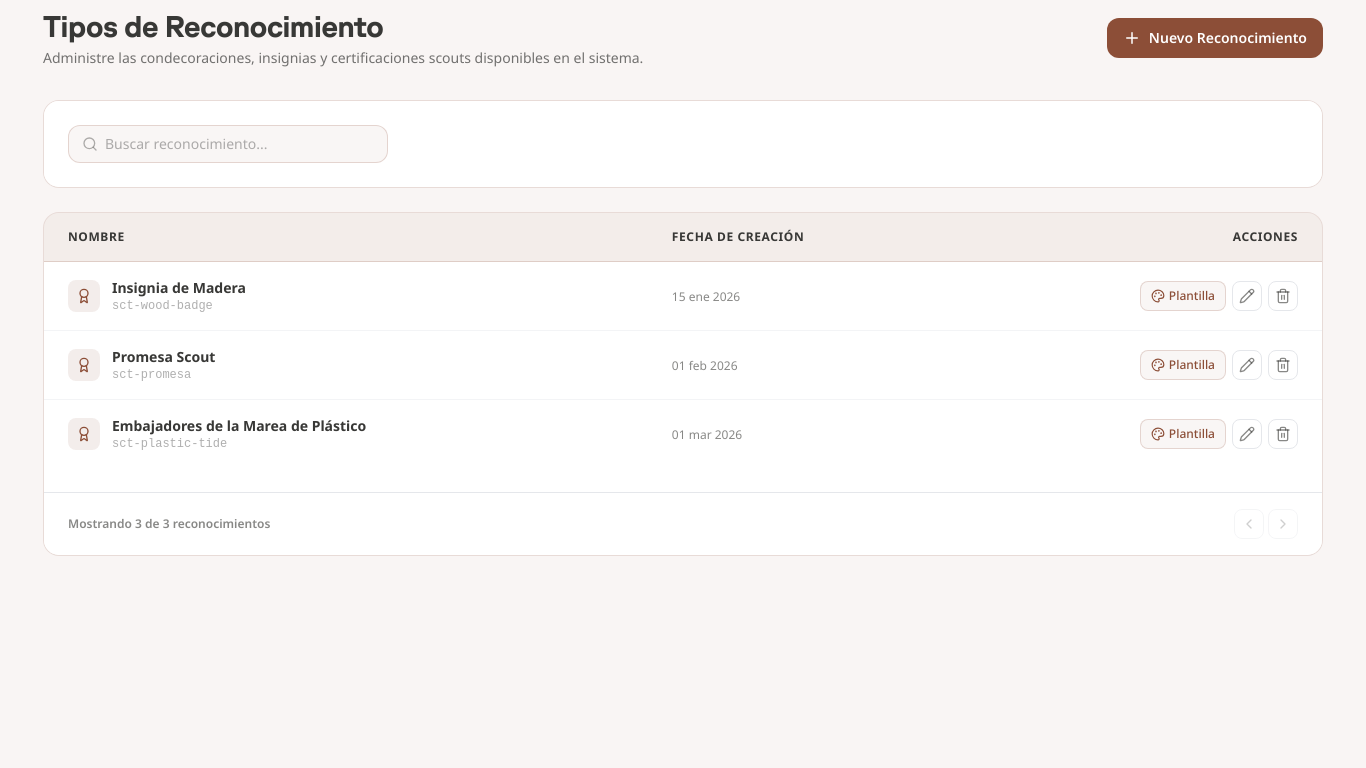
RecognitionCatalog component › opens delete confirmation modal and removes recognition from table
Check: the text "Promesa Scout" is shown, box [112,347,215,367]
Step 1. Click the button named "Eliminar Promesa Scout" → coordinates (1283, 365), box [1268,350,1298,380]
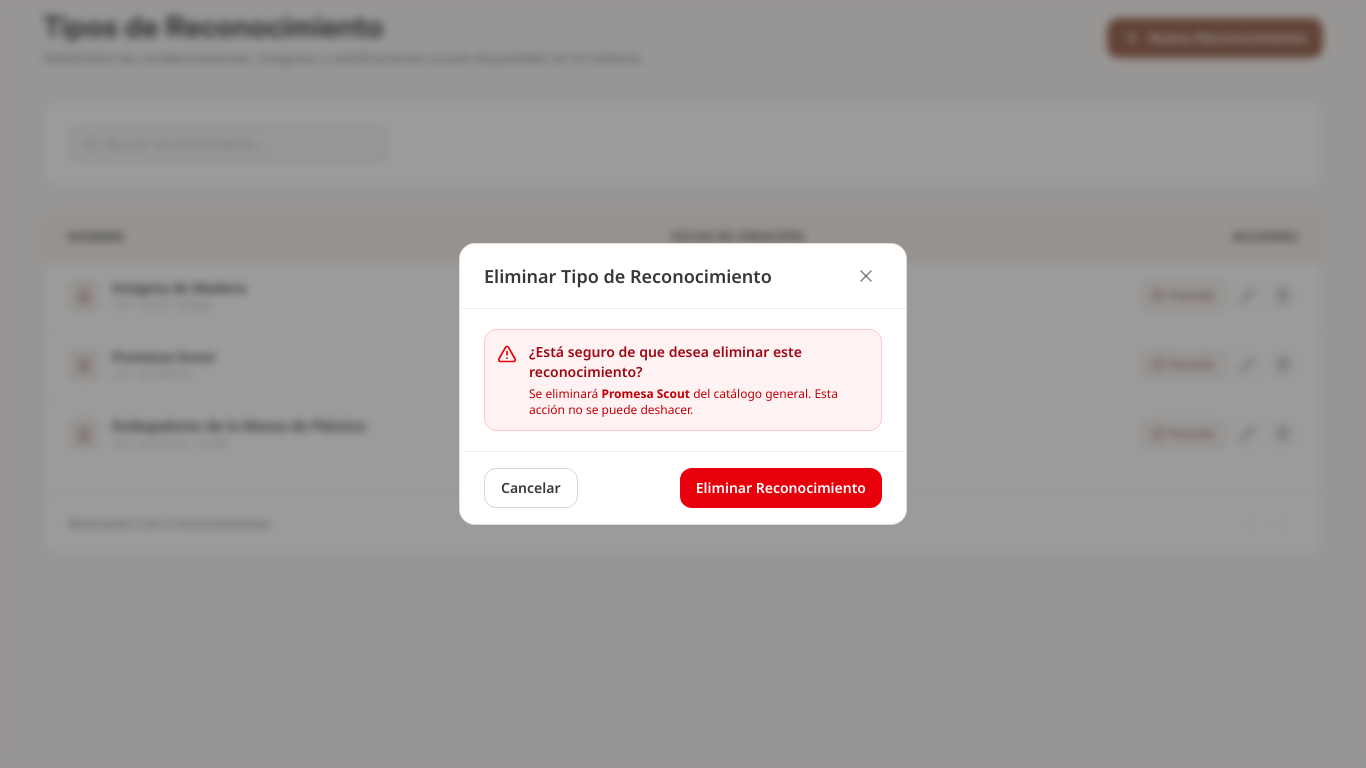
Check: the text "Eliminar Tipo de Reconocimiento" is shown, box [484,262,772,290]
Check: the text "¿Está seguro de que desea eliminar este reconocimiento?" is shown, box [529,342,802,381]
Step 2. Click the button "Eliminar Reconocimiento" → coordinates (781, 488), box [680,468,882,508]
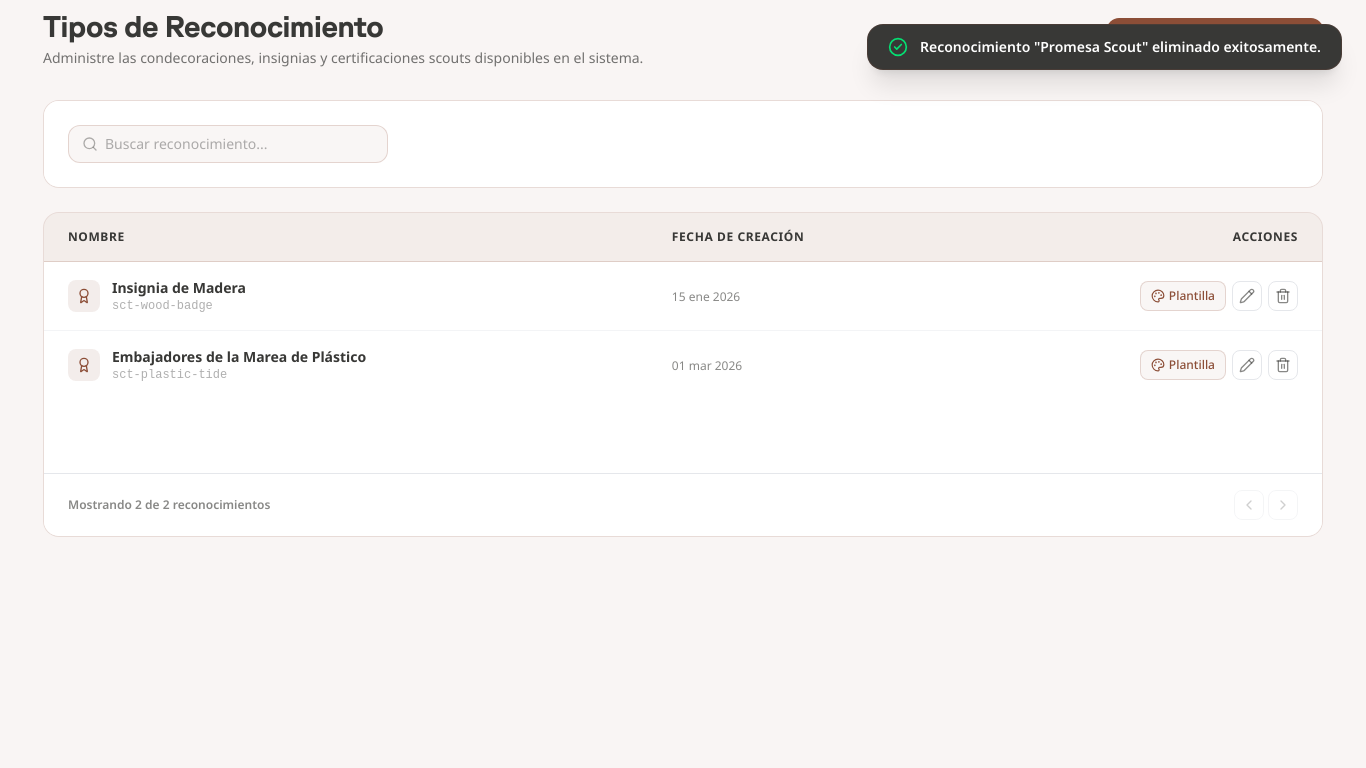
Check: the text "Reconocimiento \"Promesa Scout\" eliminado exitosamente." is shown, box [920,37,1321,57]
